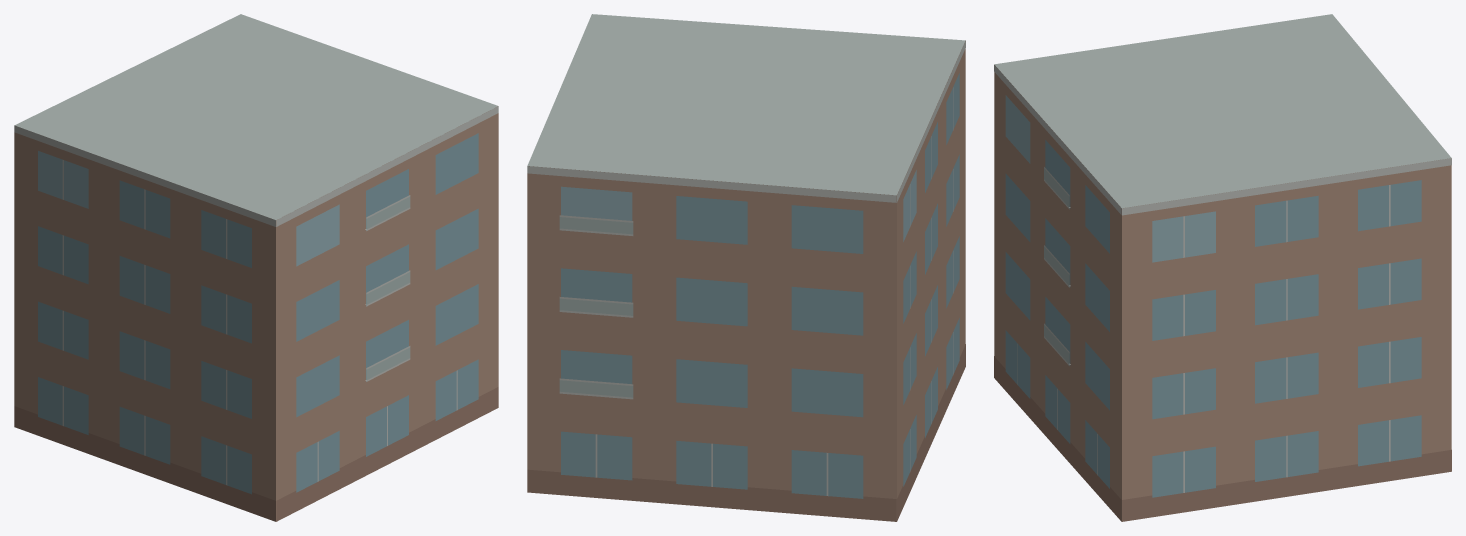
The model's file is survey-upis-32853005.glb.
3 renders of one model, left to right at view 1: azimuth 30°, elevation 25°; view 2: azimuth 150°, elevation 25°; view 3: azimuth 270°, elevation 25°, orthographic. The views are drawn at different scales.
Parts seen in each view (by area): view 1: survey-upis-32853005.tmp; view 2: survey-upis-32853005.tmp; view 3: survey-upis-32853005.tmp.
Boxes of the visible parts, left/top/right/bottom form: survey-upis-32853005.tmp: left=14, top=14, right=498, bottom=521; survey-upis-32853005.tmp: left=527, top=14, right=965, bottom=521; survey-upis-32853005.tmp: left=994, top=14, right=1451, bottom=521.
Size of the model in its own units: 14.1 by 10.6 by 14.03.
